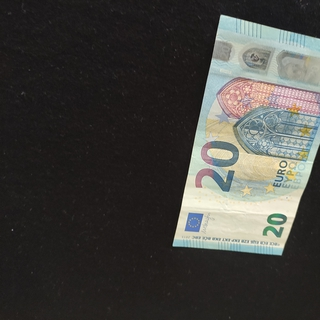20EUROFront: (171, 13, 320, 256)
